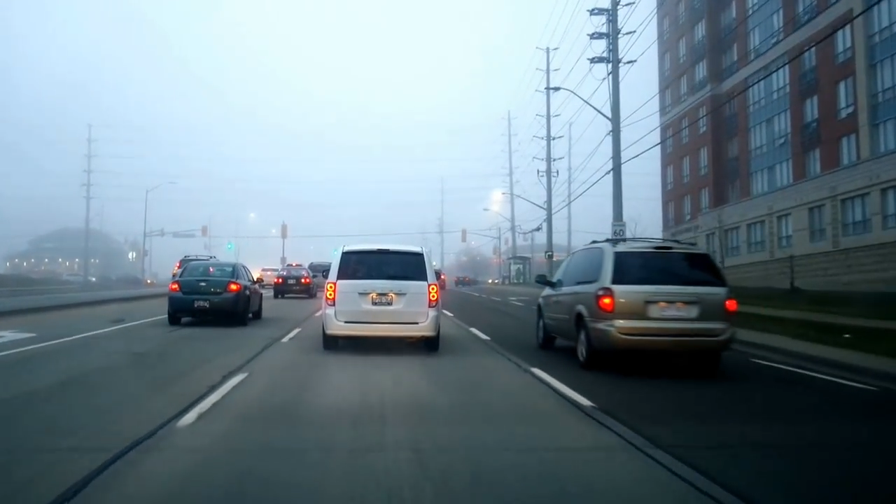car: (523, 235, 739, 370), (318, 242, 441, 353), (168, 259, 265, 327), (169, 253, 231, 299), (272, 263, 319, 298), (302, 260, 339, 291), (114, 270, 157, 287), (60, 270, 97, 287), (256, 266, 283, 288), (453, 273, 472, 287)
